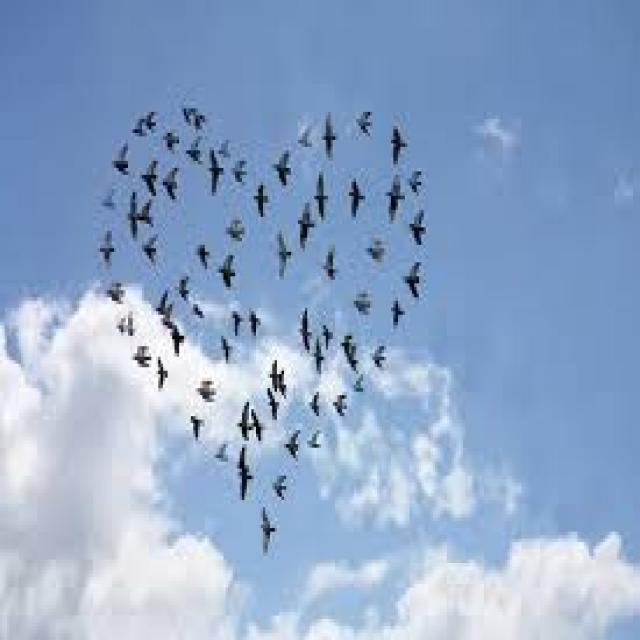bird: (255, 502, 290, 575), (196, 367, 226, 416), (232, 450, 258, 506), (294, 200, 320, 256), (272, 224, 294, 287), (346, 171, 372, 224), (292, 297, 316, 353), (382, 171, 407, 224), (204, 148, 228, 202), (268, 463, 292, 516), (269, 147, 297, 192), (404, 208, 436, 247), (403, 255, 426, 308), (389, 115, 412, 168), (109, 136, 135, 182), (228, 153, 252, 200), (218, 250, 242, 296), (151, 285, 175, 331), (351, 284, 377, 326), (322, 110, 344, 159), (165, 158, 184, 214), (313, 170, 332, 226), (222, 212, 253, 246), (364, 230, 390, 270), (281, 419, 305, 462), (96, 228, 120, 270), (236, 392, 255, 444), (321, 240, 342, 286), (124, 188, 141, 242), (251, 184, 275, 222), (342, 325, 359, 378), (246, 297, 264, 346), (141, 156, 162, 198), (142, 229, 163, 271), (369, 336, 390, 378), (331, 390, 354, 428), (187, 404, 206, 449), (388, 296, 410, 334), (355, 105, 376, 144), (156, 348, 174, 393), (213, 334, 232, 376), (318, 313, 338, 352), (123, 300, 142, 340), (296, 119, 314, 161), (192, 236, 211, 275), (405, 161, 426, 196), (158, 130, 184, 158), (250, 408, 269, 446), (264, 385, 283, 423), (308, 334, 327, 372), (212, 440, 233, 472), (306, 424, 327, 456), (348, 374, 371, 402), (218, 129, 238, 161), (308, 388, 326, 423), (138, 202, 162, 228), (132, 338, 150, 372), (129, 112, 148, 144), (144, 101, 163, 133), (173, 271, 192, 303), (172, 325, 189, 360), (107, 282, 128, 310), (223, 310, 240, 344), (176, 100, 200, 124), (191, 302, 212, 328), (278, 366, 292, 404), (100, 187, 116, 219), (188, 138, 204, 170), (192, 112, 211, 136), (268, 355, 278, 390), (114, 309, 124, 341)
